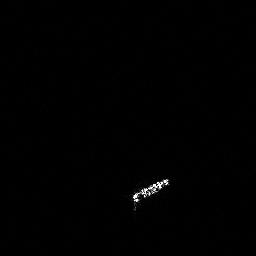ship: (131, 175, 170, 212)
